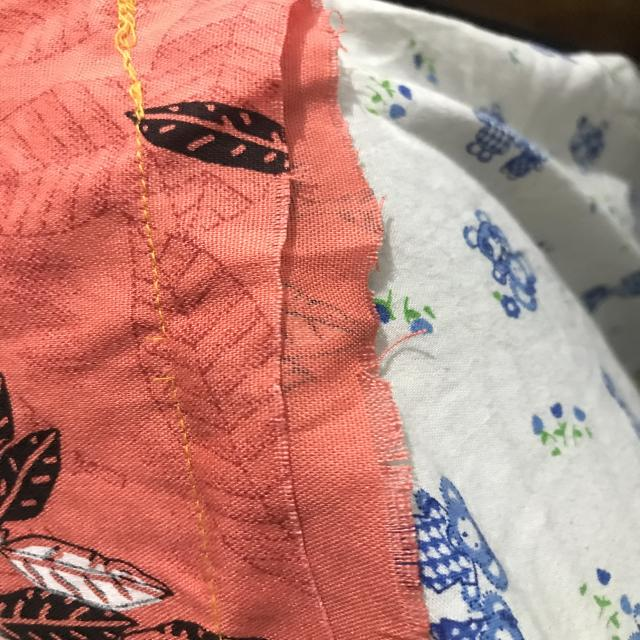broken: (125, 313, 196, 397)
good: (129, 191, 171, 285)
